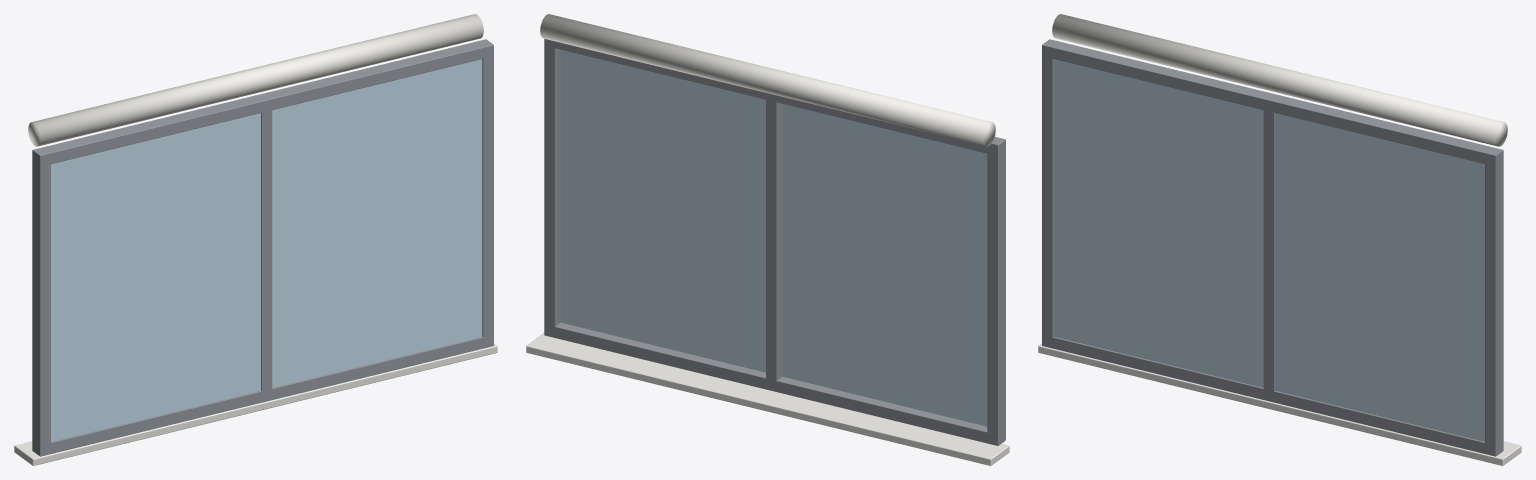
Rendered from trabajo.ventana.fbx.
3 renders of one model, left to right at view 1: azimuth 30°, elevation 25°; view 2: azimuth 150°, elevation 25°; view 3: azimuth 330°, elevation 25°, orthographic.
Parts seen in each view (by area): view 1: Vidrio, Persiana, Marco.001, Marco, Montante.002, Alfeizar, Montante, Montante.001; view 2: Vidrio, Persiana, Alfeizar, Marco, Montante.002, Montante.001, Montante, Marco.001; view 3: Vidrio, Persiana, Marco.001, Marco, Montante, Alfeizar, Montante.002, Montante.001.
Boxes of the visible parts, x1=… form: Vidrio: x1=51, y1=59, x2=482, y2=441; Persiana: x1=28, y1=14, x2=483, y2=146; Marco.001: x1=32, y1=39, x2=493, y2=166; Marco: x1=34, y1=335, x2=493, y2=456; Montante.002: x1=32, y1=147, x2=50, y2=456; Alfeizar: x1=14, y1=343, x2=497, y2=465; Montante: x1=482, y1=45, x2=493, y2=346; Montante.001: x1=261, y1=104, x2=272, y2=401; Vidrio: x1=560, y1=49, x2=987, y2=426; Persiana: x1=540, y1=14, x2=995, y2=146; Alfeizar: x1=526, y1=333, x2=1009, y2=465; Marco: x1=544, y1=322, x2=1005, y2=445; Montante.002: x1=987, y1=138, x2=1005, y2=445; Montante.001: x1=766, y1=93, x2=782, y2=391; Montante: x1=544, y1=41, x2=560, y2=337; Marco.001: x1=544, y1=39, x2=1005, y2=155; Vidrio: x1=1053, y1=59, x2=1484, y2=441; Persiana: x1=1052, y1=14, x2=1507, y2=146; Marco.001: x1=1042, y1=39, x2=1503, y2=166; Marco: x1=1042, y1=335, x2=1501, y2=456; Montante: x1=1485, y1=153, x2=1503, y2=455; Alfeizar: x1=1038, y1=343, x2=1521, y2=465; Montante.002: x1=1042, y1=56, x2=1053, y2=347; Montante.001: x1=1263, y1=100, x2=1274, y2=398.
Size of the model in its own units: 1.68 by 1.15 by 0.13.
